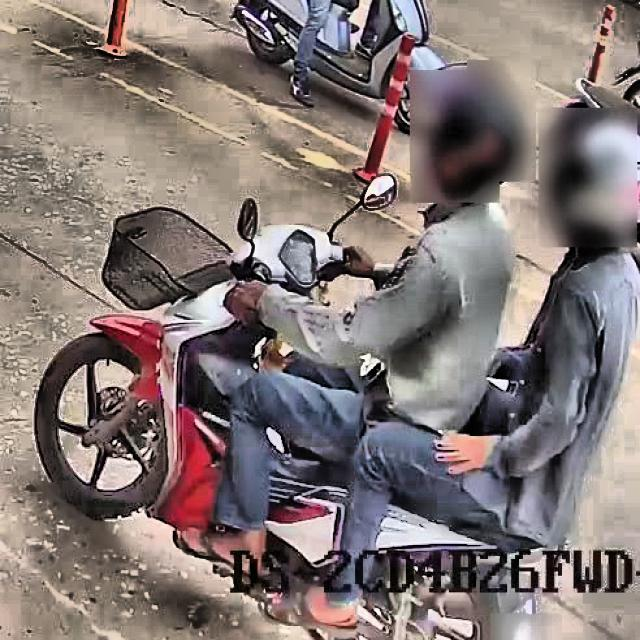motorcycle: (0, 174, 592, 638)
